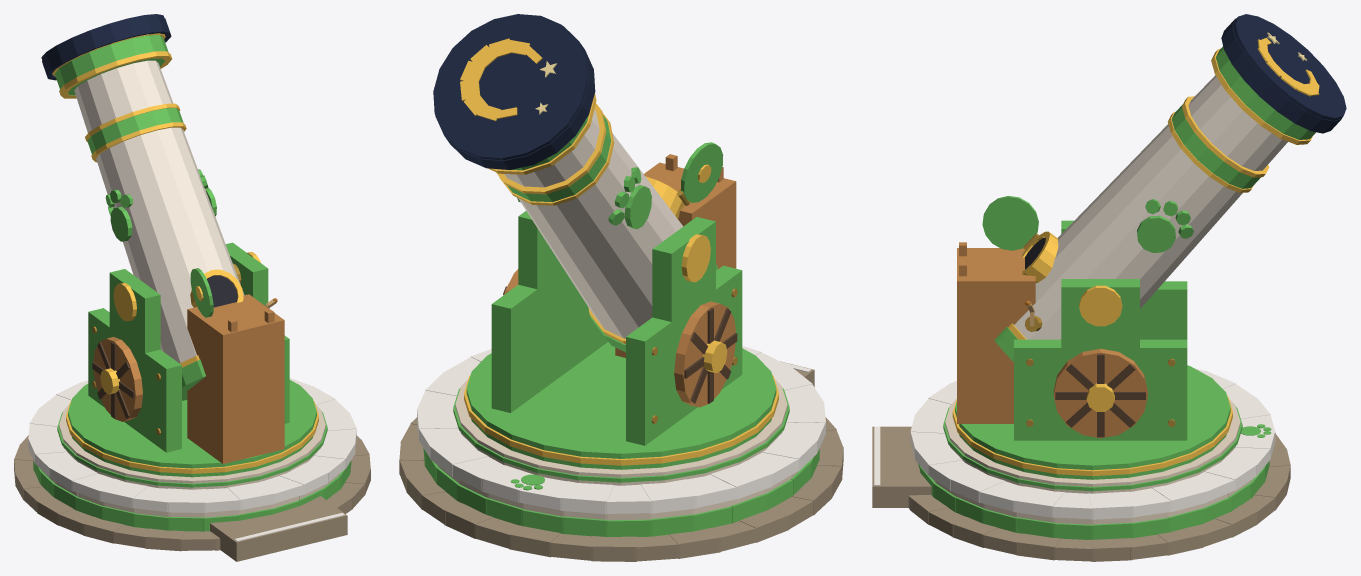
The model's file is CatCafe_Camp_Cannon_Park.glb.
3 renders of one model, left to right at view 1: azimuth 30°, elevation 25°; view 2: azimuth 150°, elevation 25°; view 3: azimuth 270°, elevation 25°, orthographic. The views are drawn at different scales.
Visible parts, largest first — view 1: CatCafe_Camp_Cannon_Park_Turret, CatCafe_Camp_Cannon_Park, CatCafe_Camp_Cannon_Park_Climb, CatCafe_Camp_Cannon_Park_MoonCover; view 2: CatCafe_Camp_Cannon_Park_Turret, CatCafe_Camp_Cannon_Park, CatCafe_Camp_Cannon_Park_MoonCover, CatCafe_Camp_Cannon_Park_Climb; view 3: CatCafe_Camp_Cannon_Park_Turret, CatCafe_Camp_Cannon_Park, CatCafe_Camp_Cannon_Park_Climb, CatCafe_Camp_Cannon_Park_MoonCover.
Boxes of the visible parts, bbox=[...] form: CatCafe_Camp_Cannon_Park_Turret: bbox=[52, 33, 318, 477]; CatCafe_Camp_Cannon_Park: bbox=[14, 378, 370, 561]; CatCafe_Camp_Cannon_Park_Climb: bbox=[187, 294, 284, 463]; CatCafe_Camp_Cannon_Park_MoonCover: bbox=[41, 14, 171, 80]; CatCafe_Camp_Cannon_Park_Turret: bbox=[464, 94, 778, 469]; CatCafe_Camp_Cannon_Park: bbox=[399, 346, 843, 561]; CatCafe_Camp_Cannon_Park_MoonCover: bbox=[433, 14, 595, 169]; CatCafe_Camp_Cannon_Park_Climb: bbox=[615, 162, 736, 357]; CatCafe_Camp_Cannon_Park_Turret: bbox=[952, 46, 1315, 479]; CatCafe_Camp_Cannon_Park: bbox=[872, 368, 1290, 561]; CatCafe_Camp_Cannon_Park_Climb: bbox=[957, 248, 1035, 423]; CatCafe_Camp_Cannon_Park_MoonCover: bbox=[1221, 14, 1346, 133].
Size of the model in its own units: 7.54 by 9.55 by 9.03.
1 material, 1 textured.
